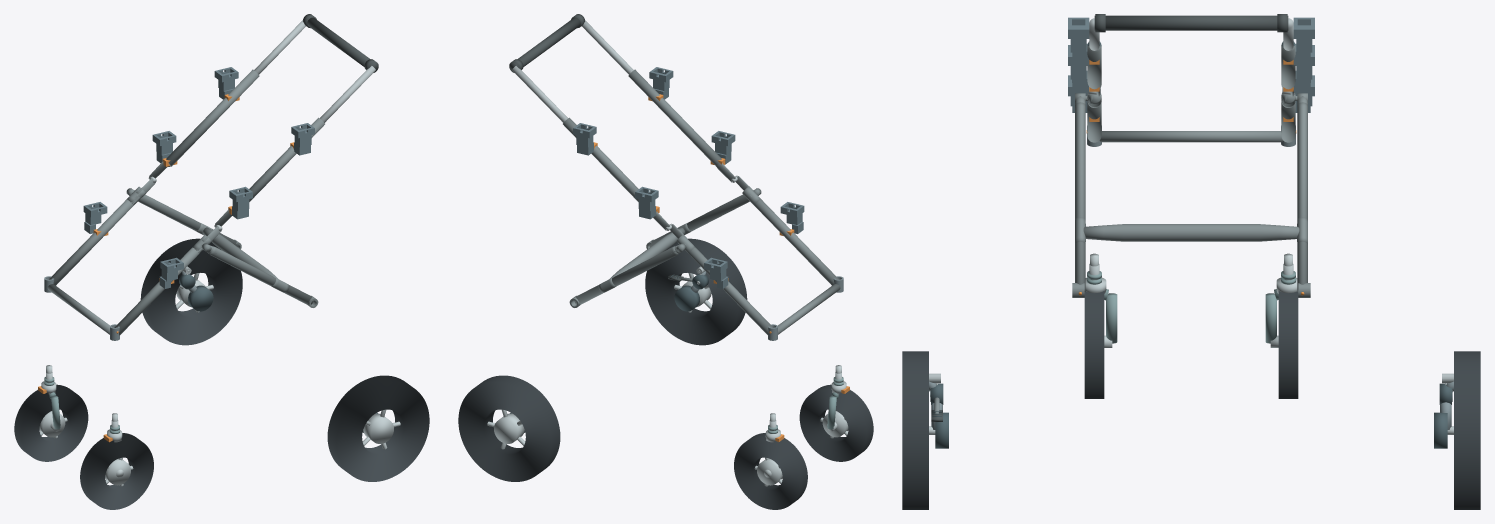
Rendered from w550_state4_wheel_L.glb.
3 views of the same model, side by side, from view 1: azimuth 30°, elevation 25°; view 2: azimuth 150°, elevation 25°; view 3: azimuth 270°, elevation 25° (orthographic). The views are drawn at different scales.
Visible parts, largest first — view 1: RL_tire.005, RR_tire.005, FL_tire.005, FR_tire.005, main_upper_1.006, main_lower_1.006, V46_rear_leg_-1.006, main_lower_-1.006, round_handle.005, main_upper_-1.006, V46_rear_leg_1.006, V46_rearbar.006 (+12 smaller); view 2: RR_tire.005, RL_tire.005, FR_tire.005, FL_tire.005, main_upper_-1.006, main_lower_-1.006, V46_rear_leg_1.006, main_lower_1.006, round_handle.005, main_upper_1.006, V46_rear_leg_-1.006, V46_rearbar.006 (+12 smaller); view 3: RL_tire.005, RR_tire.005, V46_rearbar.006, round_handle.005, FL_tire.005, FR_tire.005, front_fixed_round_tube.005, V46_rear_leg_1.006, V46_rear_leg_-1.006, Universal_Cabin_Receiver_H_1, Universal_Cabin_Receiver_H_-1.
Part boxes in pixels (left/top/right/bottom): RL_tire.005: left=327, top=375, right=429, bottom=481; RR_tire.005: left=140, top=238, right=242, bottom=345; FL_tire.005: left=80, top=433, right=153, bottom=509; FR_tire.005: left=14, top=384, right=88, bottom=461; main_upper_1.006: left=166, top=69, right=259, bottom=166; main_lower_1.006: left=49, top=197, right=139, bottom=285; V46_rear_leg_-1.006: left=209, top=246, right=313, bottom=304; main_lower_-1.006: left=114, top=247, right=201, bottom=335; round_handle.005: left=307, top=17, right=377, bottom=71; main_upper_-1.006: left=249, top=117, right=324, bottom=201; V46_rear_leg_1.006: left=138, top=194, right=238, bottom=246; V46_rearbar.006: left=202, top=227, right=277, bottom=278; RR_tire.005: left=458, top=375, right=560, bottom=481; RL_tire.005: left=645, top=238, right=747, bottom=345; FR_tire.005: left=734, top=433, right=807, bottom=509; FL_tire.005: left=799, top=384, right=873, bottom=461; main_upper_-1.006: left=628, top=69, right=721, bottom=166; main_lower_-1.006: left=748, top=197, right=838, bottom=285; V46_rear_leg_1.006: left=574, top=246, right=678, bottom=304; main_lower_1.006: left=686, top=247, right=773, bottom=335; round_handle.005: left=510, top=17, right=580, bottom=71; main_upper_1.006: left=563, top=117, right=638, bottom=201; V46_rear_leg_-1.006: left=649, top=194, right=749, bottom=246; V46_rearbar.006: left=610, top=227, right=685, bottom=278; RL_tire.005: left=902, top=351, right=928, bottom=509; RR_tire.005: left=1454, top=351, right=1480, bottom=509; V46_rearbar.006: left=1083, top=224, right=1299, bottom=241; round_handle.005: left=1094, top=15, right=1288, bottom=30; FL_tire.005: left=1084, top=291, right=1104, bottom=398; FR_tire.005: left=1278, top=291, right=1298, bottom=398; front_fixed_round_tube.005: left=1099, top=131, right=1283, bottom=142; V46_rear_leg_1.006: left=1297, top=102, right=1307, bottom=291; V46_rear_leg_-1.006: left=1075, top=102, right=1085, bottom=291; Universal_Cabin_Receiver_H_1: left=1293, top=17, right=1314, bottom=64; Universal_Cabin_Receiver_H_-1: left=1068, top=17, right=1089, bottom=64.
Bounding box in the file's own units: 1.14 × 1.41 × 1.31.
